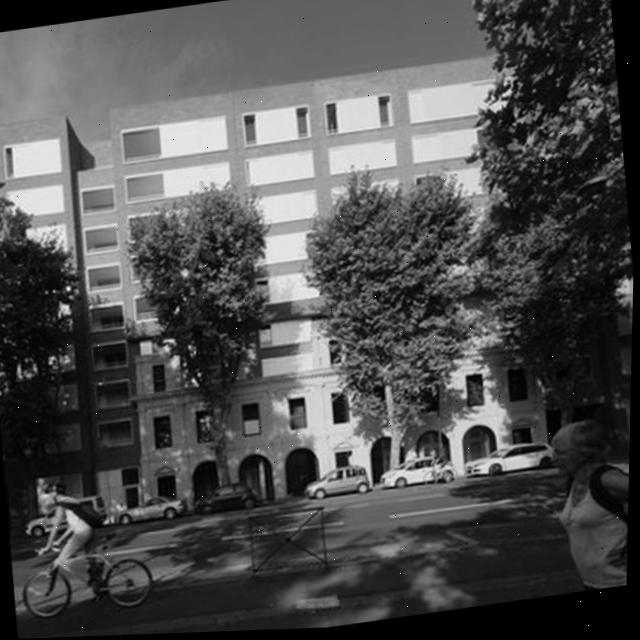building: (0, 31, 639, 542)
